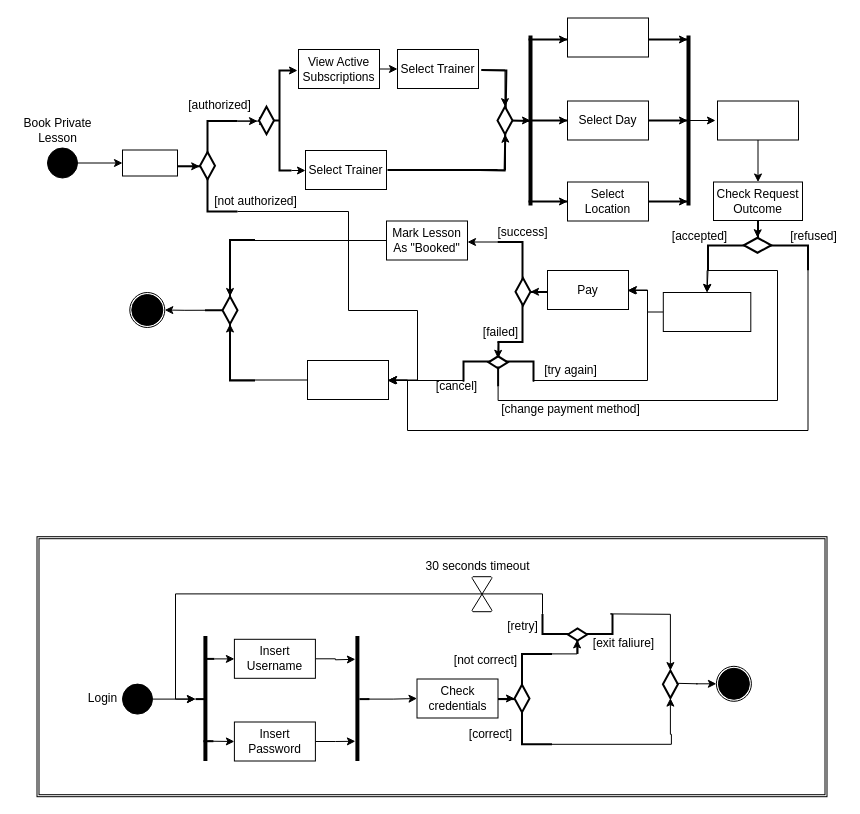
Image size: 860x814. Some labels were removed from this diagram. The centre of each missing label's shape, as x and y in pixels:
"Go Back to Homepage" belongs at point (347, 380).
"LOGIN *" belongs at point (150, 162).
"Select Payment Method" belongs at point (706, 312).
"Select Time" belongs at point (607, 37).
"Send Request" belongs at point (757, 120).
